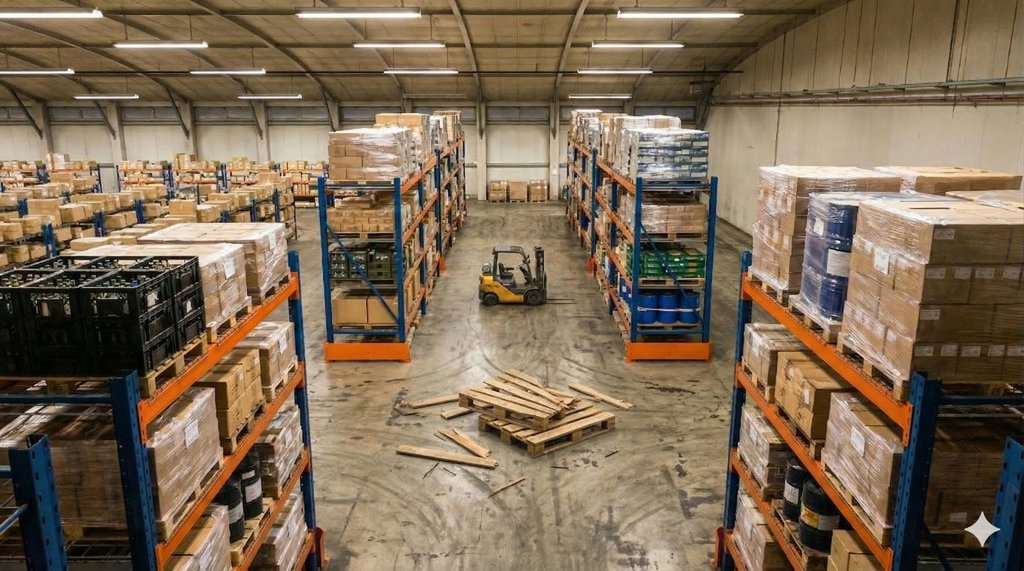forklift: (479, 235, 572, 318)
obstacle: (366, 353, 684, 540)
pallet: (452, 361, 635, 472), (474, 411, 620, 458), (833, 329, 913, 407), (156, 326, 211, 396), (207, 298, 273, 343), (786, 294, 838, 345), (745, 264, 794, 314), (739, 357, 786, 405), (630, 273, 717, 293)
